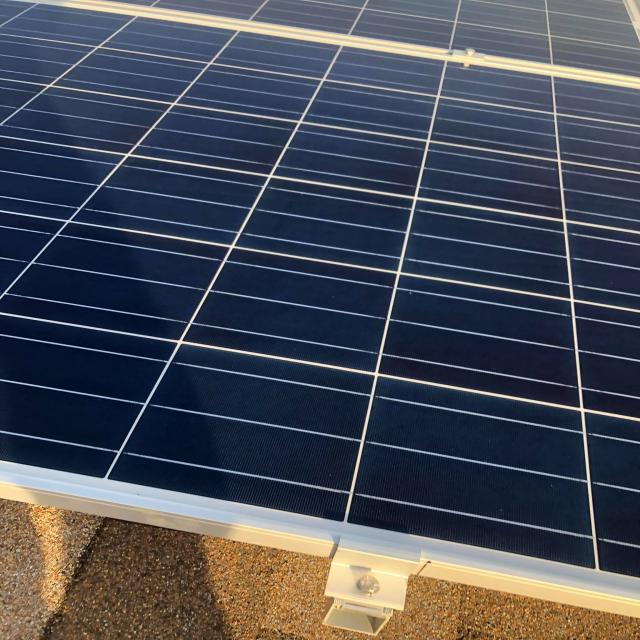clean-solar-panel: (0, 0, 638, 610)
